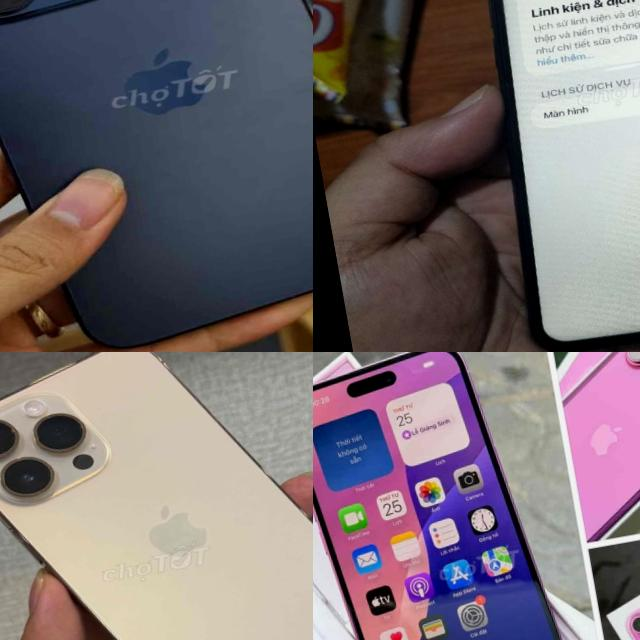gen_11: (490, 0, 640, 350)
gen_14: (0, 352, 313, 640)
gen_15: (0, 0, 313, 352)
gen_16: (313, 352, 588, 640)
